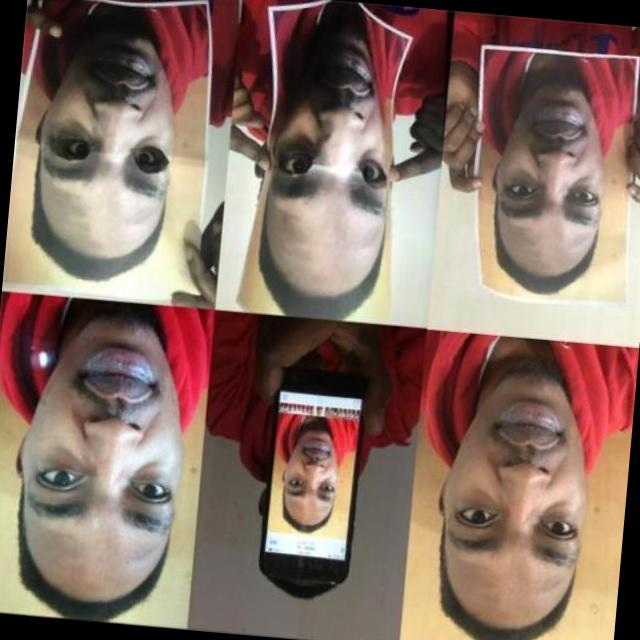bareface: (15, 327, 206, 612), (240, 22, 420, 303), (420, 358, 603, 632), (27, 0, 199, 269), (453, 45, 612, 301), (271, 380, 346, 544)
